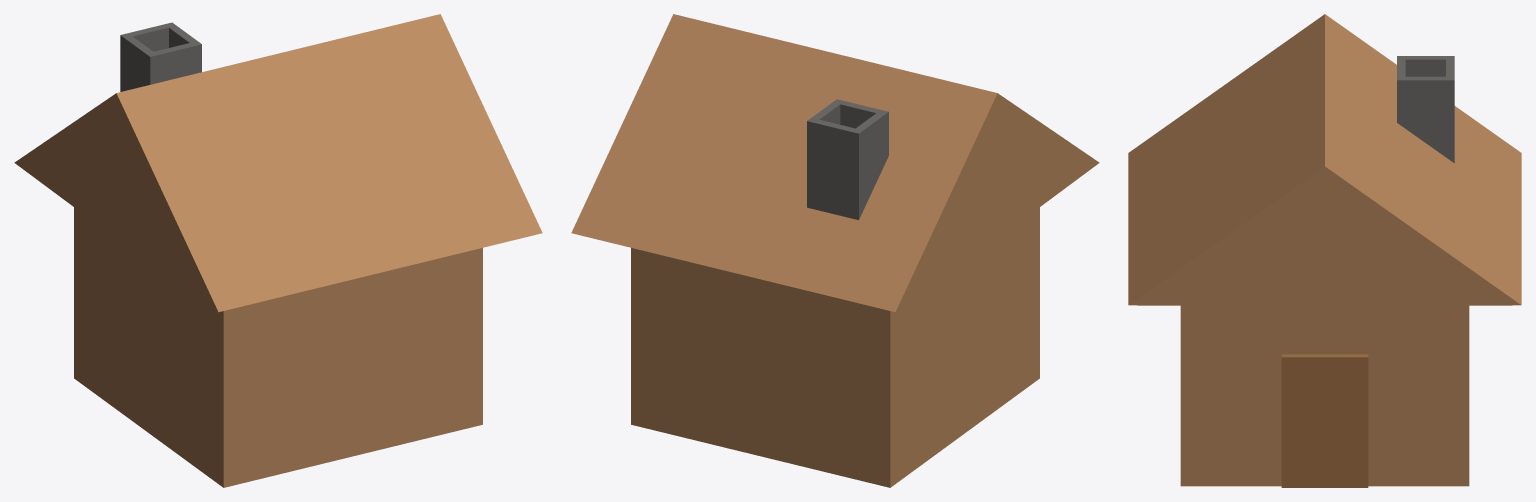
File: WoodHouse.fbx
3 views of the same model, side by side, from view 1: azimuth 30°, elevation 25°; view 2: azimuth 150°, elevation 25°; view 3: azimuth 270°, elevation 25° (orthographic). The views are drawn at different scales.
Parts seen in each view (by area): view 1: Roof, House, Chimney; view 2: Roof, House, Chimney; view 3: Roof, House, Door, Chimney.
Part boxes in pixels (x1,y1,x2,y2): Roof: [14, 14, 542, 312]; House: [74, 207, 482, 487]; Chimney: [120, 22, 201, 91]; Roof: [571, 14, 1099, 312]; House: [631, 207, 1039, 487]; Chimney: [807, 99, 888, 220]; Roof: [1128, 14, 1521, 306]; House: [1180, 305, 1469, 486]; Door: [1281, 354, 1368, 487]; Chimney: [1397, 56, 1454, 163].
Bounding box in the file's own units: 250 × 256 × 273.
